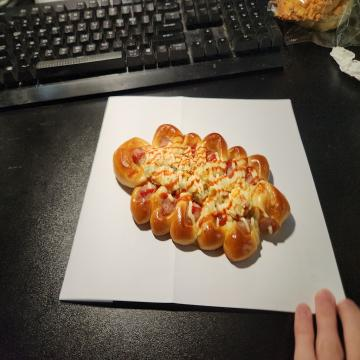pizza_bread: (112, 123, 292, 260)
